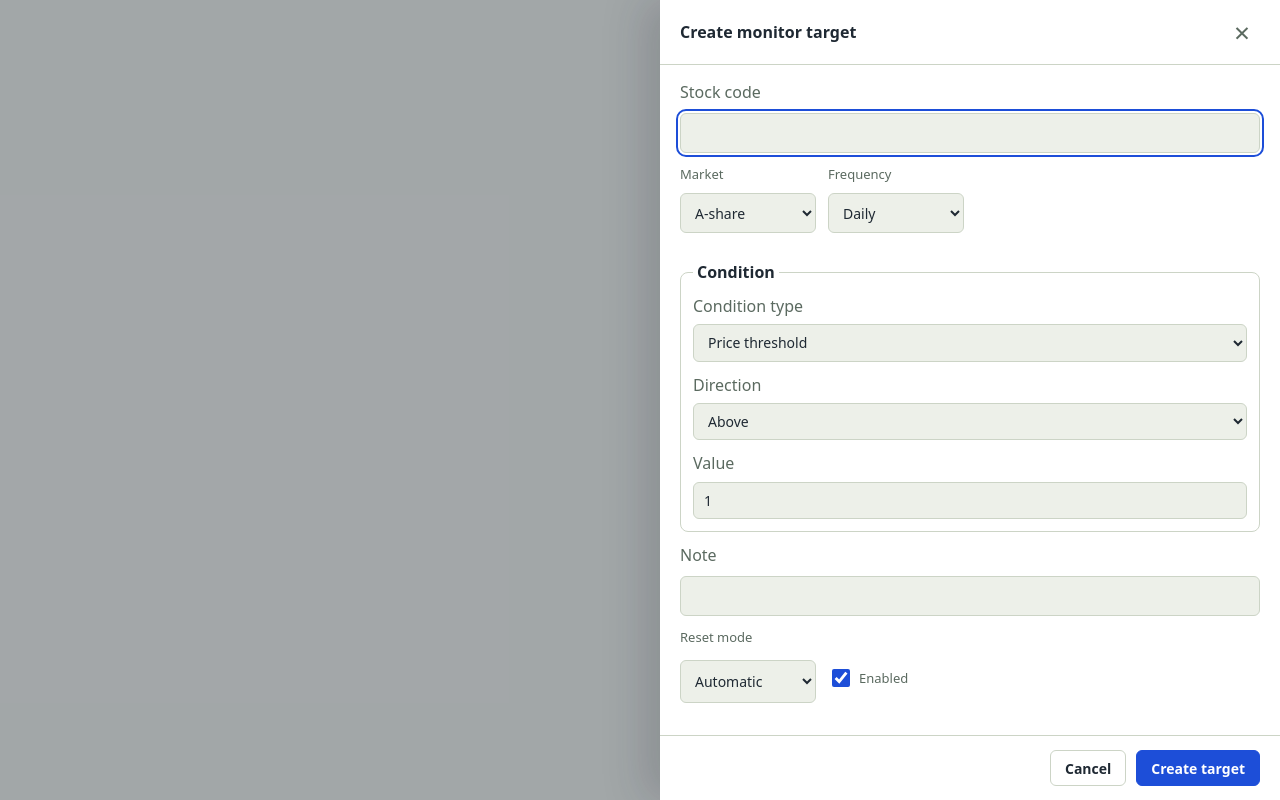
Test: MonitorTargetFormModal › maps API field errors to their corresponding input
Type "000001" into the field labelled "Stock code" at (970, 133), box [680,113,1260,153]
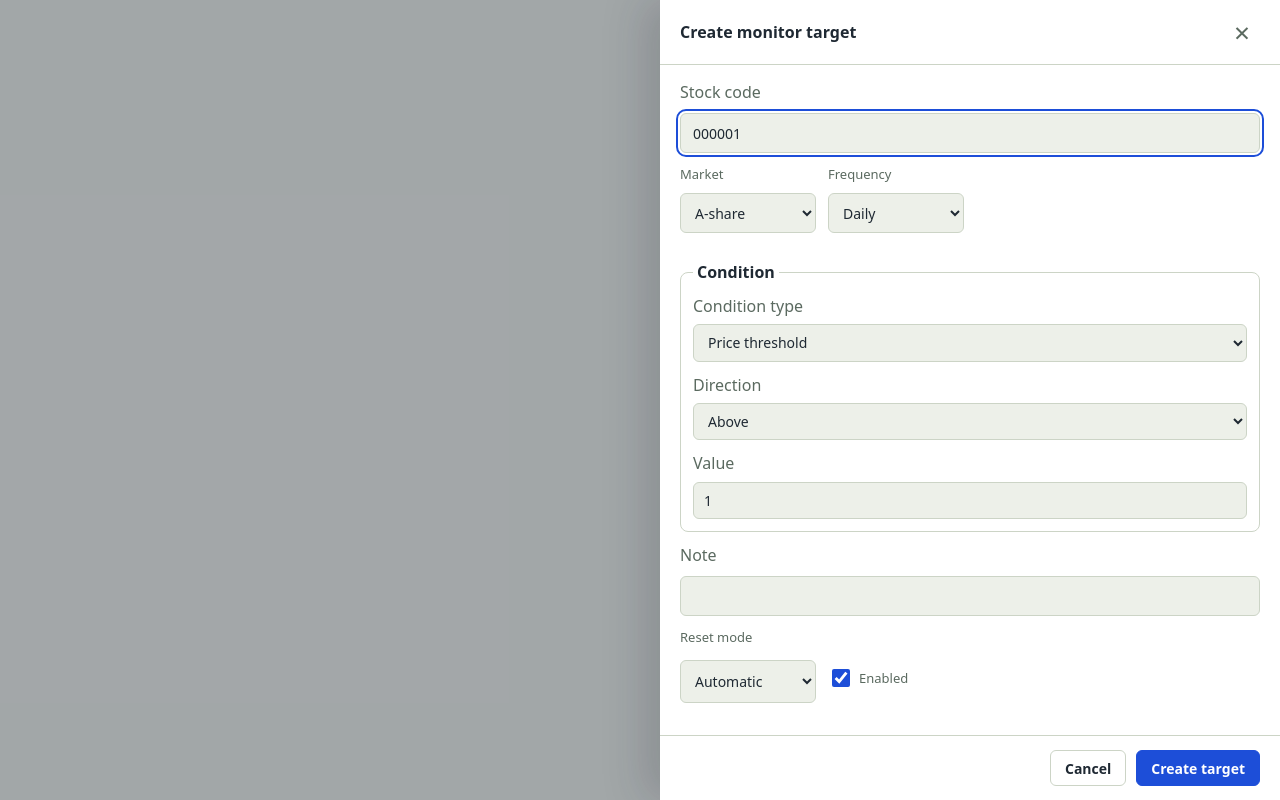
Click the button "Create target" at (1198, 768), box [1136,750,1260,786]
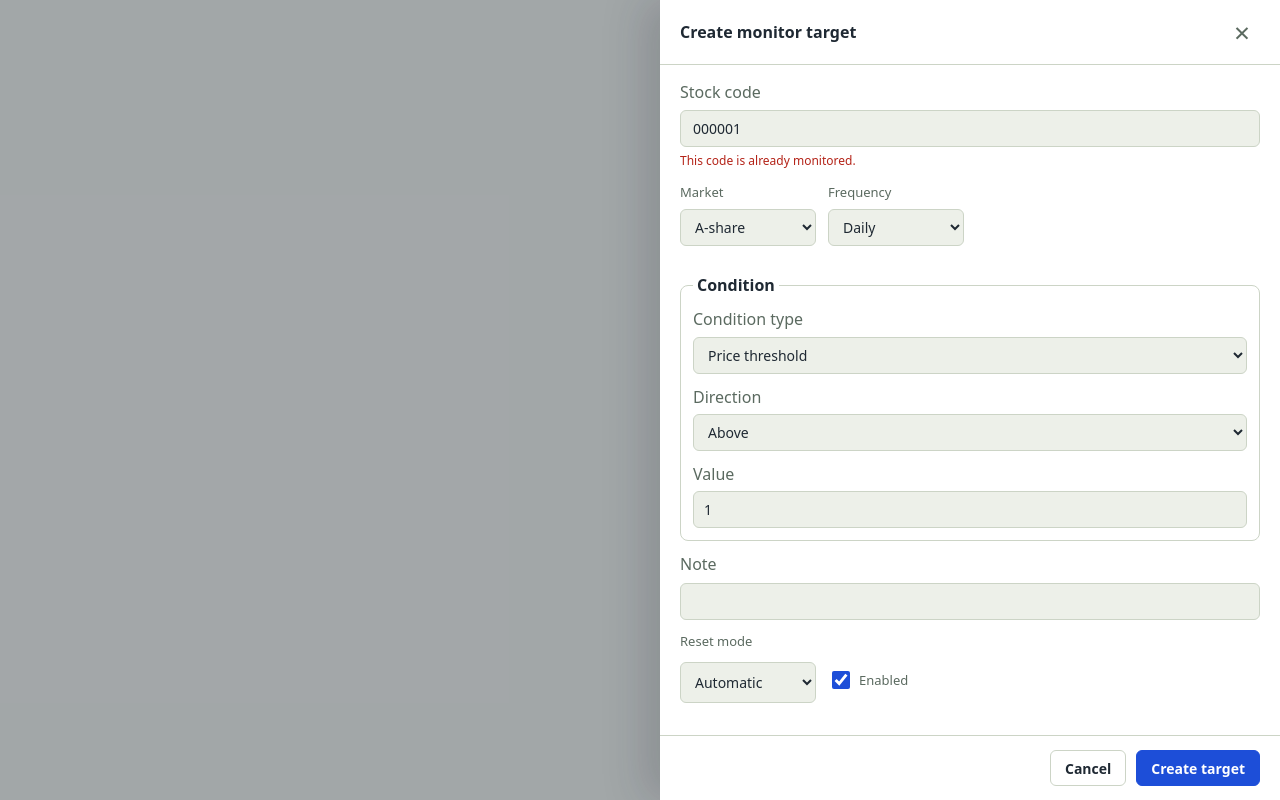
Now the text "This code is already monitored." is shown, box [680,152,856,169]
